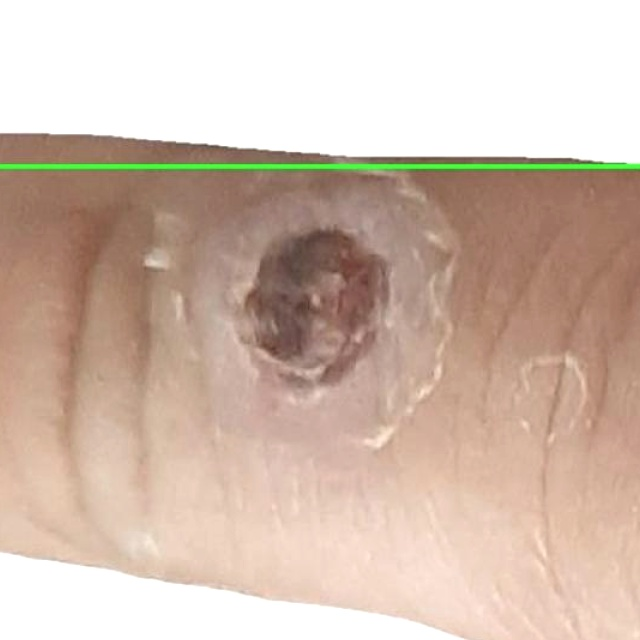Scabies: (0, 0, 639, 166)
